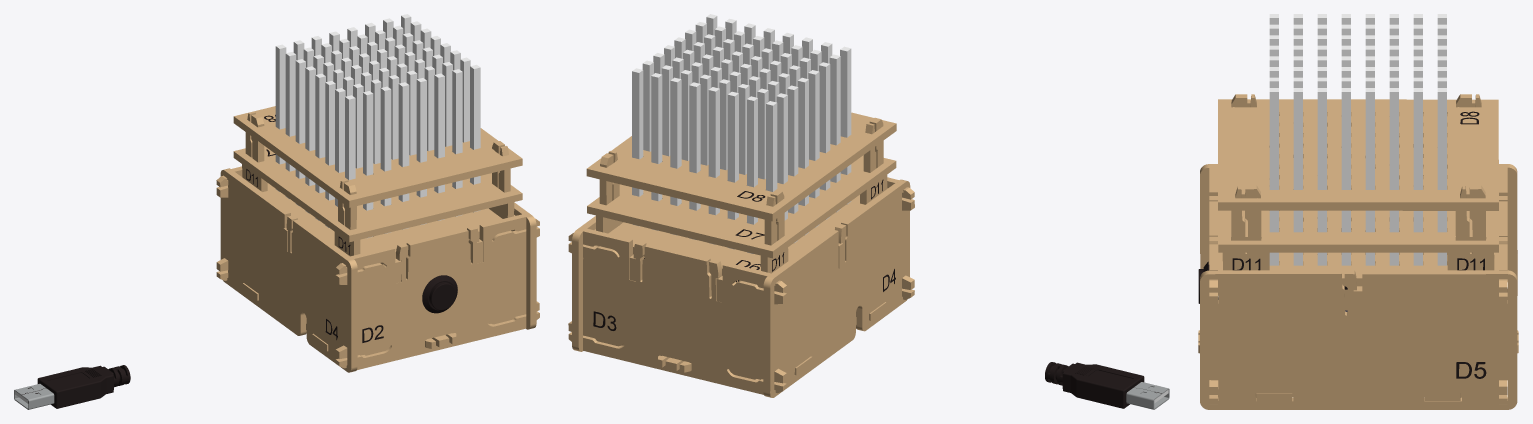
3 renders of one model, left to right at view 1: azimuth 30°, elevation 25°; view 2: azimuth 150°, elevation 25°; view 3: azimuth 270°, elevation 25°, orthographic. The views are drawn at different scales.
Visible parts, largest first — view 1: D2:LSM_Side3_r2, D4:LSM_Side2_r2, D8:LSM_Lens_Top, D7:LSM_Lens_Middle, USB_A:USBCableend, D6:LSM_Lens_Bottom, D5:LSM_Side4_r2, STEM_59:LSM_Stem, STEM_60:LSM_Stem, BUTTON:Push button, STEM_63:LSM_Stem, STEM_64:LSM_Stem (+23 smaller); view 2: D3:LSM_D3, D4:LSM_Side2_r2, D8:LSM_Lens_Top, D7:LSM_Lens_Middle, USB_A:USBCableend, D6:LSM_Lens_Bottom, D5:LSM_Side4_r2, STEM_05:LSM_Stem, STEM_07:LSM_Stem, STEM_03:LSM_Stem, STEM_08:LSM_Stem, STEM_04:LSM_Stem (+22 smaller); view 3: D5:LSM_Side4_r2, D8:LSM_Lens_Top, D7:LSM_Lens_Middle, D6:LSM_Lens_Bottom, D4:LSM_Side2_r2, D11_A:LSM_LensSupport_r2, D11_B:LSM_LensSupport_r2, D2:LSM_Side3_r2, D3:LSM_D3, STEM_24:LSM_Stem, STEM_32:LSM_Stem, STEM_40:LSM_Stem (+8 smaller).
Part boxes in pixels (box(x1,y1,x2,y2)): D2:LSM_Side3_r2: box(335, 214, 539, 369); D4:LSM_Side2_r2: box(220, 168, 357, 372); D8:LSM_Lens_Top: box(233, 106, 522, 207); D7:LSM_Lens_Middle: box(233, 146, 522, 242); USB_A:USBCableend: box(14, 365, 130, 409); D6:LSM_Lens_Bottom: box(263, 183, 515, 258); D5:LSM_Side4_r2: box(479, 202, 536, 329); STEM_59:LSM_Stem: box(380, 86, 391, 233); STEM_60:LSM_Stem: box(398, 82, 409, 229); BUTTON:Push button: box(422, 275, 457, 313); STEM_63:LSM_Stem: box(452, 69, 462, 216); STEM_64:LSM_Stem: box(470, 64, 480, 212); D3:LSM_D3: box(568, 228, 786, 394); D4:LSM_Side2_r2: box(763, 179, 910, 397); D8:LSM_Lens_Top: box(586, 112, 896, 221); D7:LSM_Lens_Middle: box(587, 155, 896, 258); USB_A:USBCableend: box(1045, 362, 1169, 409); D6:LSM_Lens_Bottom: box(594, 188, 887, 275); D5:LSM_Side4_r2: box(572, 216, 633, 351); STEM_05:LSM_Stem: box(689, 82, 700, 239); STEM_07:LSM_Stem: box(651, 73, 662, 230); STEM_03:LSM_Stem: box(727, 91, 738, 249); STEM_08:LSM_Stem: box(632, 68, 643, 226); STEM_04:LSM_Stem: box(708, 87, 719, 244); D5:LSM_Side4_r2: box(1200, 270, 1517, 409); D8:LSM_Lens_Top: box(1218, 99, 1498, 210); D7:LSM_Lens_Middle: box(1218, 210, 1498, 252); D6:LSM_Lens_Bottom: box(1218, 211, 1498, 286); D4:LSM_Side2_r2: box(1200, 164, 1517, 299); D11_A:LSM_LensSupport_r2: box(1222, 185, 1269, 270); D11_B:LSM_LensSupport_r2: box(1447, 185, 1494, 397); D2:LSM_Side3_r2: box(1209, 167, 1217, 404); D3:LSM_D3: box(1499, 167, 1507, 404); STEM_24:LSM_Stem: box(1389, 88, 1398, 265); STEM_32:LSM_Stem: box(1365, 88, 1374, 265); STEM_40:LSM_Stem: box(1341, 88, 1350, 265).
Bounding box in the file's own units: 226 × 113 × 109.
